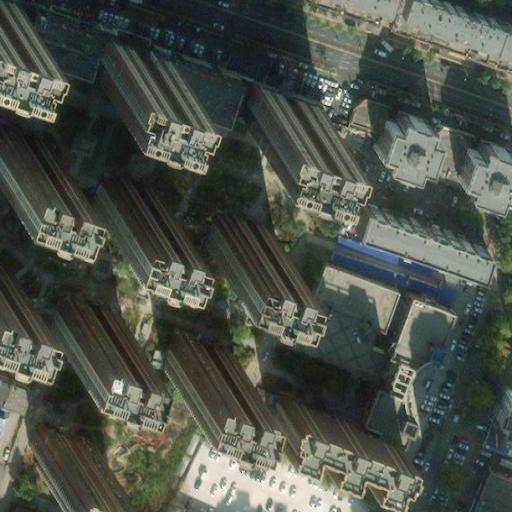building: (362, 298, 446, 450), (263, 394, 390, 473), (345, 99, 478, 173), (341, 199, 473, 264), (300, 261, 394, 330), (333, 228, 434, 283), (88, 31, 167, 92), (241, 85, 317, 143), (158, 330, 229, 386), (372, 114, 433, 174), (45, 293, 116, 344), (199, 213, 268, 265), (455, 141, 512, 203), (26, 420, 88, 476), (86, 177, 152, 226), (463, 462, 512, 512), (489, 385, 512, 430), (53, 497, 103, 512)
